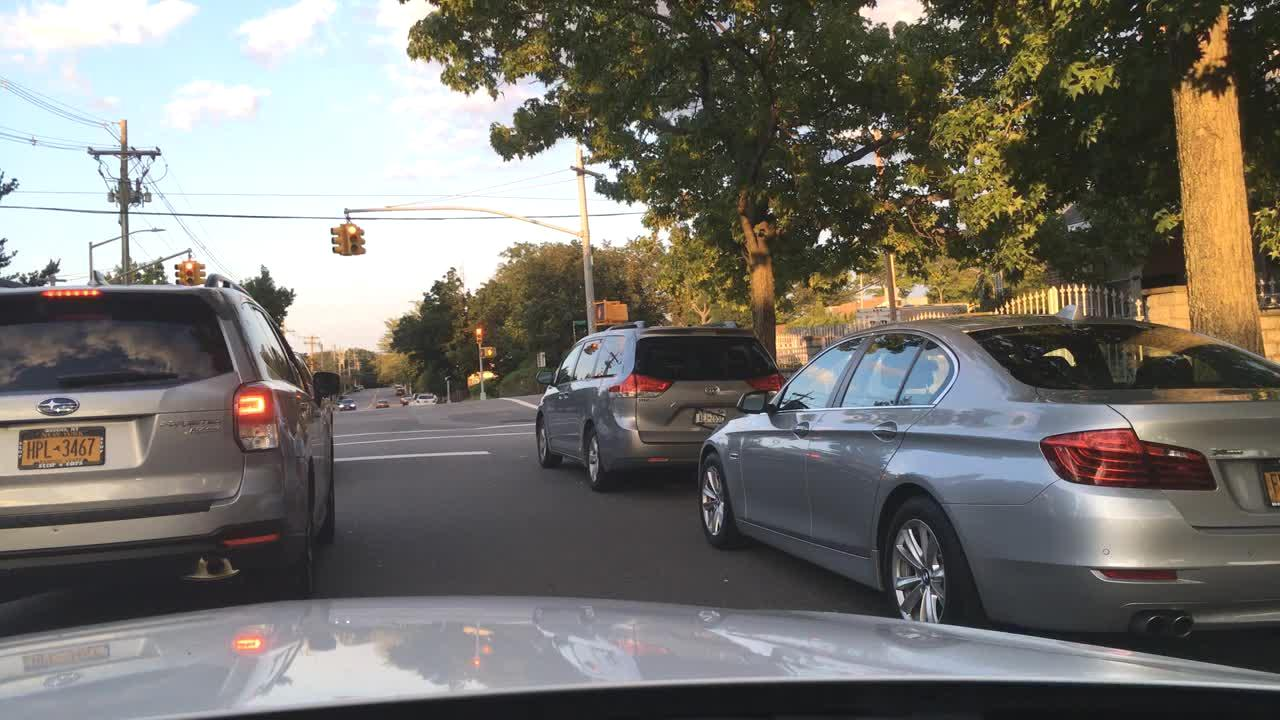subaru: (27, 389, 86, 423)
